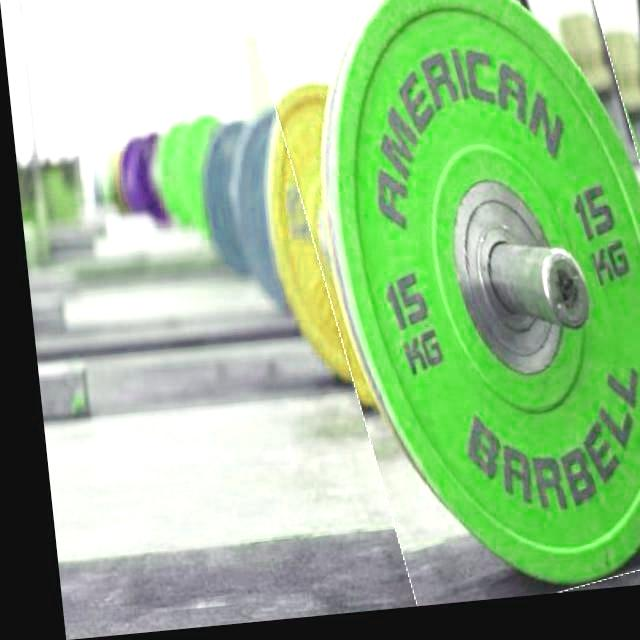barbell: (272, 1, 640, 620)
